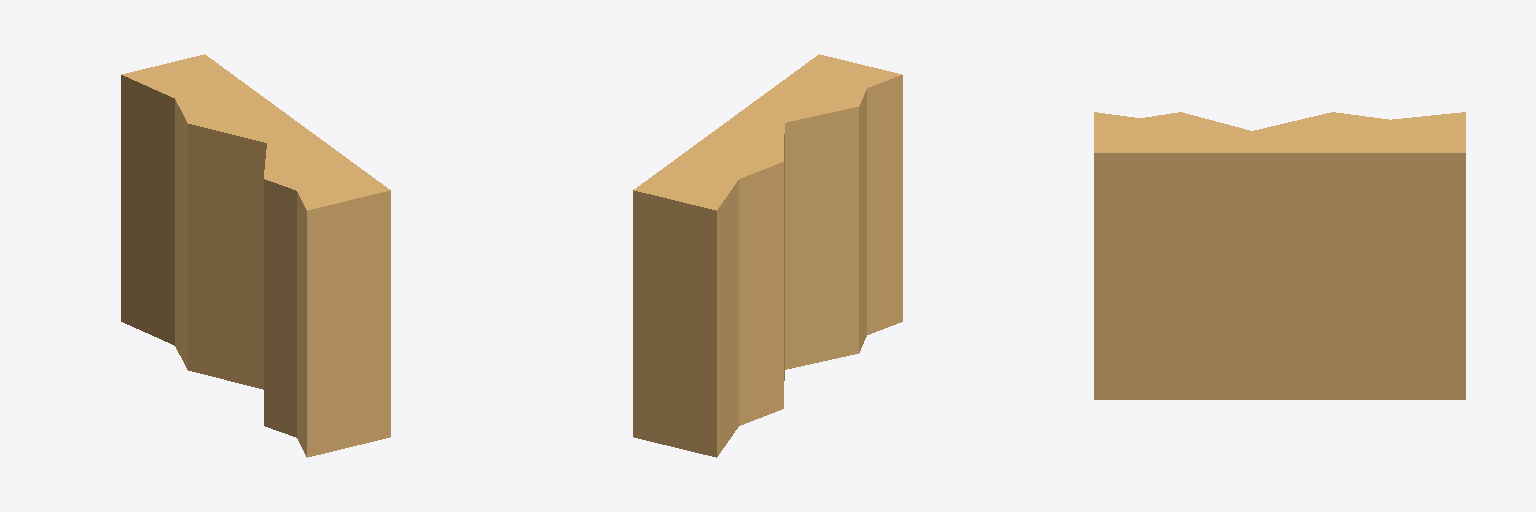
The picture shows the model from 3 angles: view 1: azimuth 30°, elevation 25°; view 2: azimuth 150°, elevation 25°; view 3: azimuth 270°, elevation 25°; orthographic projection.
Visible parts, largest first — view 1: Cube.000_Cube.002; view 2: Cube.000_Cube.002; view 3: Cube.000_Cube.002.
Part boxes in pixels (left/top/right/bottom): Cube.000_Cube.002: left=121, top=54, right=390, bottom=457; Cube.000_Cube.002: left=633, top=54, right=902, bottom=457; Cube.000_Cube.002: left=1094, top=112, right=1465, bottom=399.
Bounding box in the file's own units: 0.26 × 0.7333 × 1.
1 materials, 1 textured.